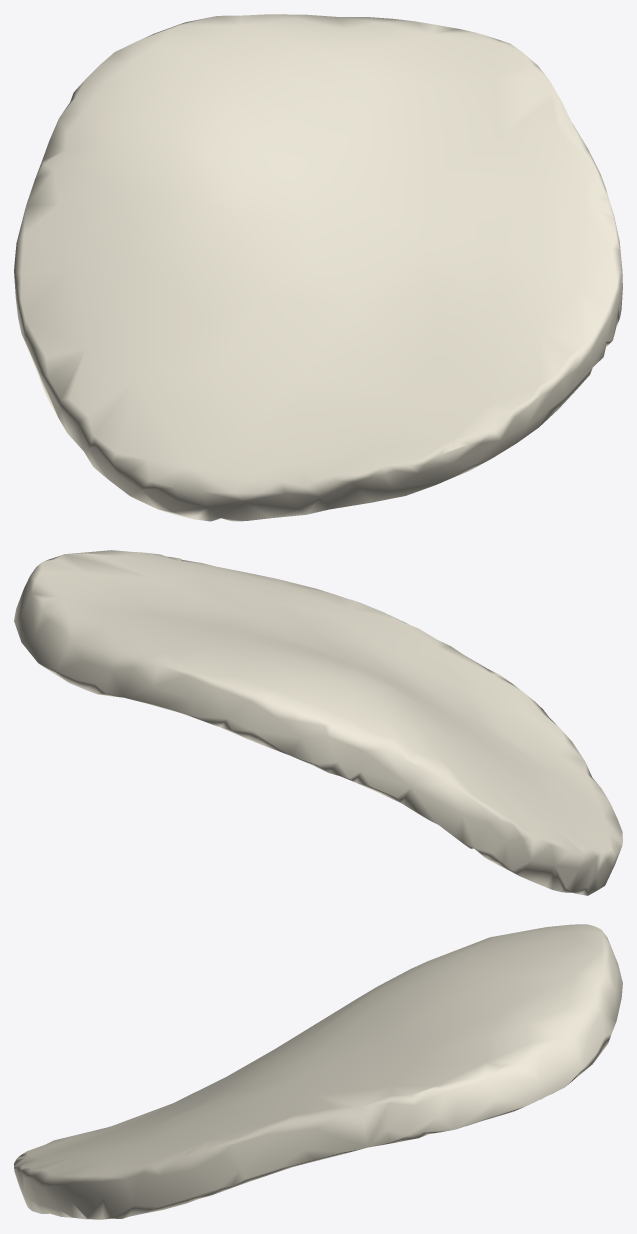
The model's file is fma57061_mm1107.glb.
3 views of the same model, one above another, from view 1: azimuth 30°, elevation 25°; view 2: azimuth 150°, elevation 25°; view 3: azimuth 270°, elevation 25° (orthographic).
Parts seen in each view (by area): view 1: FMA57061_MM1107; view 2: FMA57061_MM1107; view 3: FMA57061_MM1107.
Boxes of the visible parts, <box> form: FMA57061_MM1107: <box>14,14,622,521</box>; FMA57061_MM1107: <box>14,550,622,895</box>; FMA57061_MM1107: <box>14,924,622,1219</box>.
Bounding box in the file's own units: 0.0105 × 0.00575 × 0.0106.
